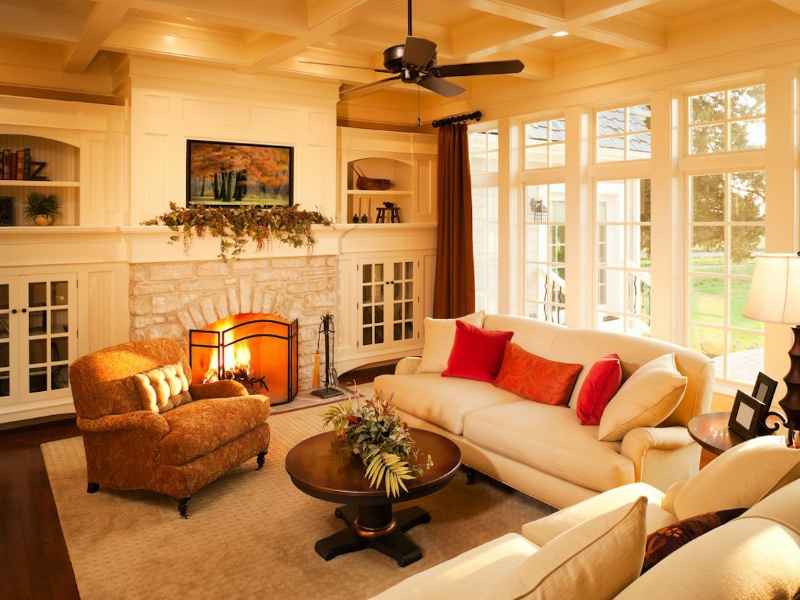fire: (201, 318, 260, 384)
